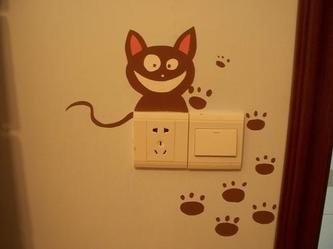switch: (191, 124, 239, 162)
